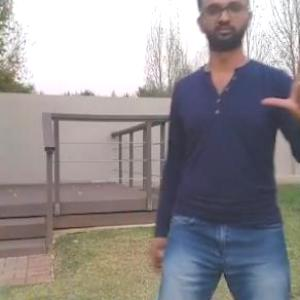land_hand: (258, 43, 299, 129)
